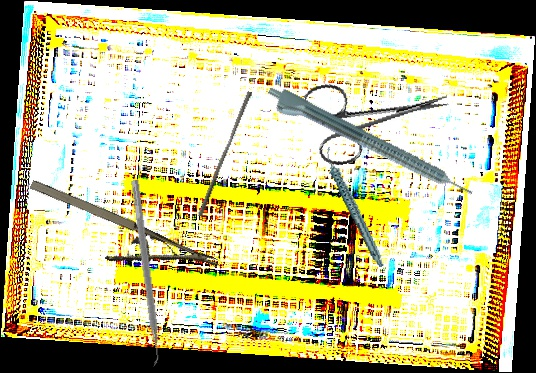Handpiece: (261, 82, 476, 210), (324, 140, 384, 274)
Iris Scissors: (302, 58, 457, 170)
Needle Holder: (16, 174, 221, 304)
Pusher: (197, 89, 253, 219)
Spatula Surgical: (122, 179, 165, 368)
